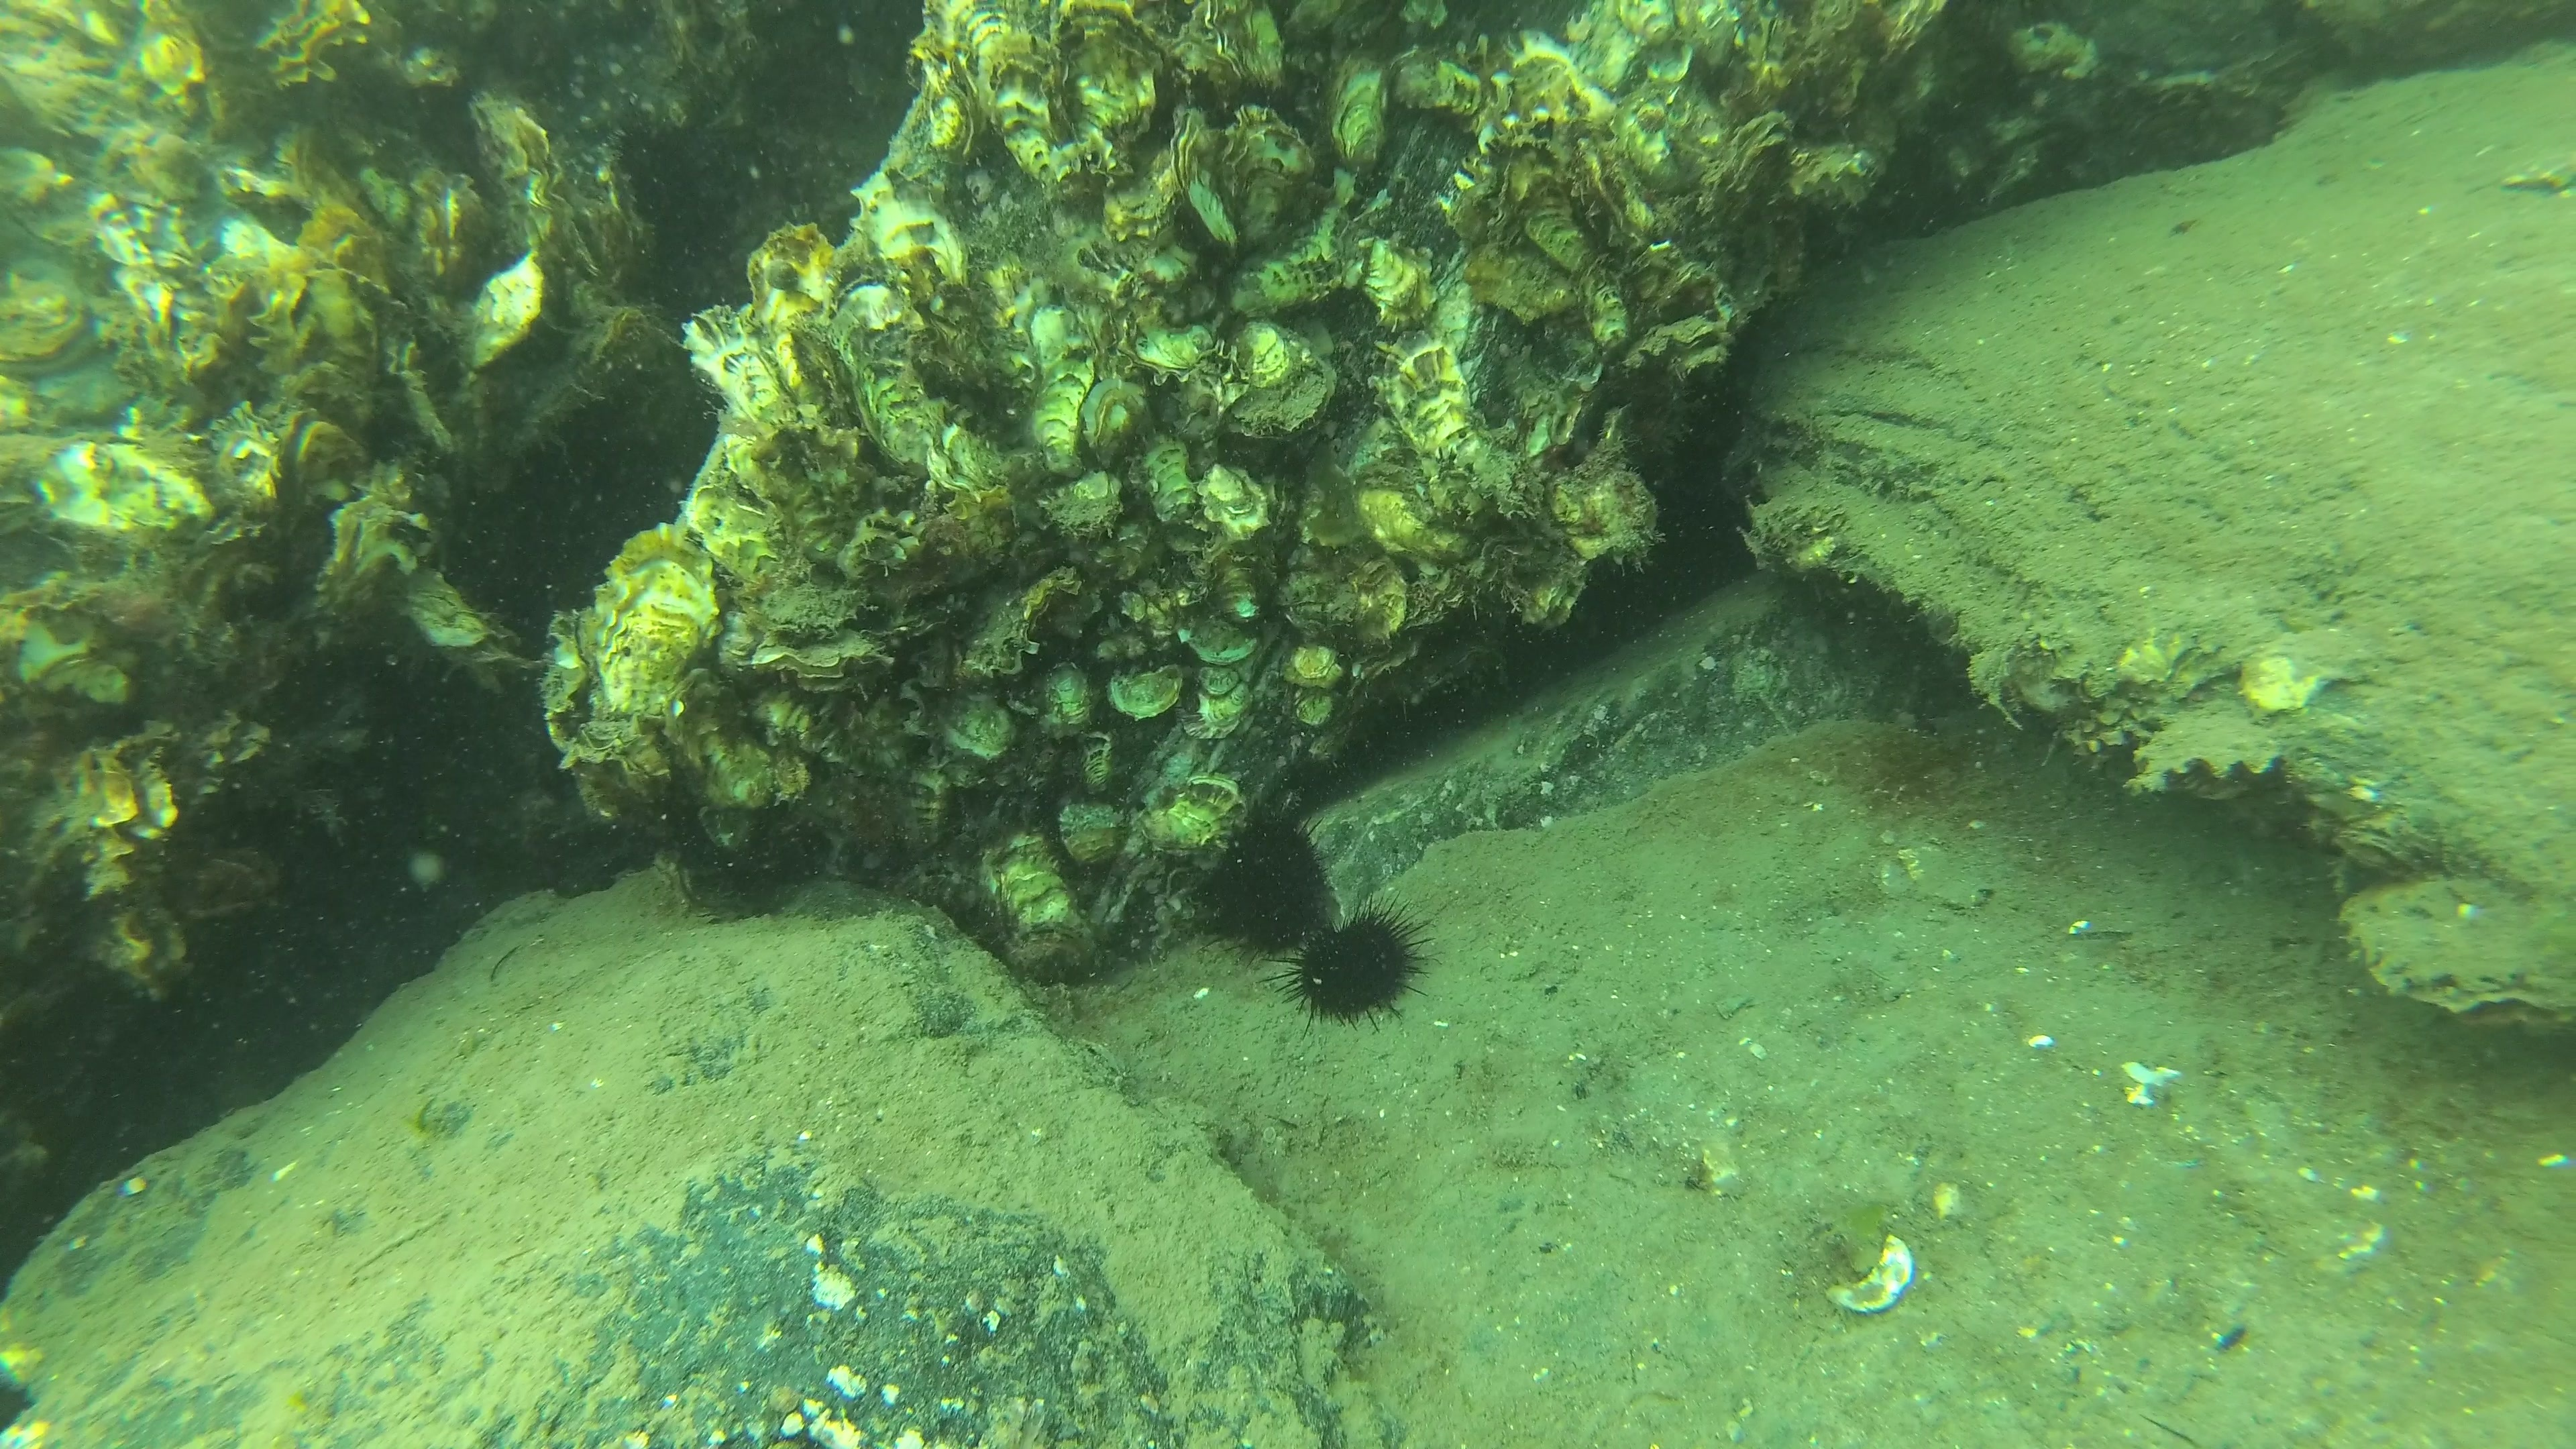echinus: (1277, 906, 1430, 1026), (1207, 828, 1336, 952)
